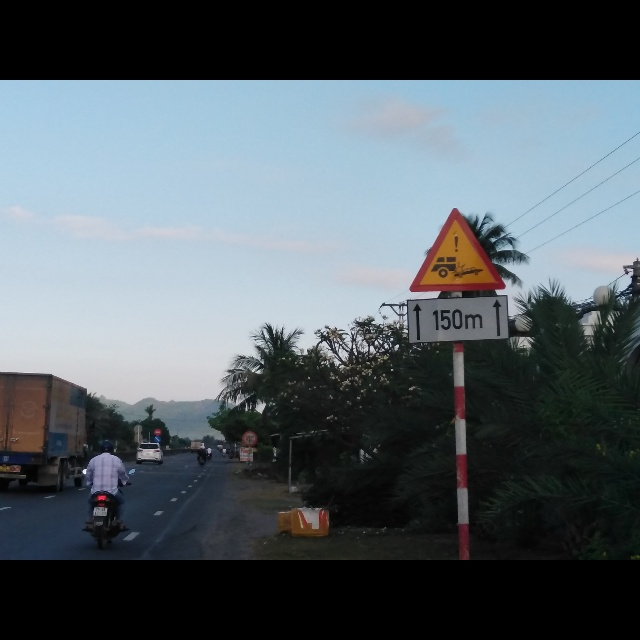Đoạn đường hay xảy ra tai nạn: (409, 207, 507, 293)
